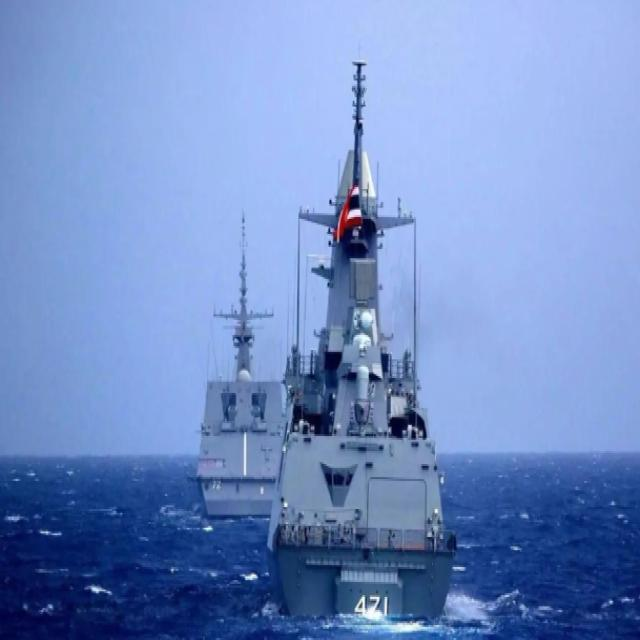navalvessels: (268, 67, 461, 619), (193, 197, 293, 526)
